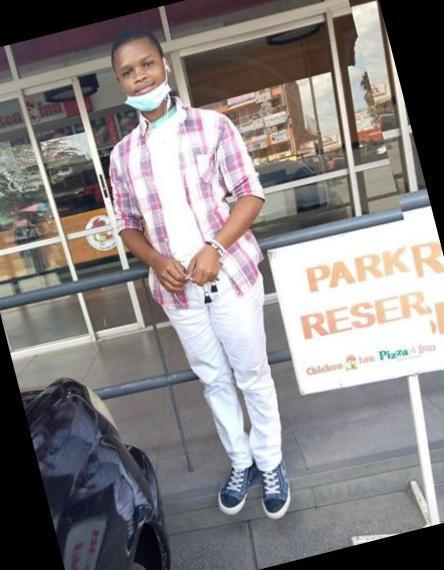mask_weared_incorrect: (113, 47, 178, 121)
